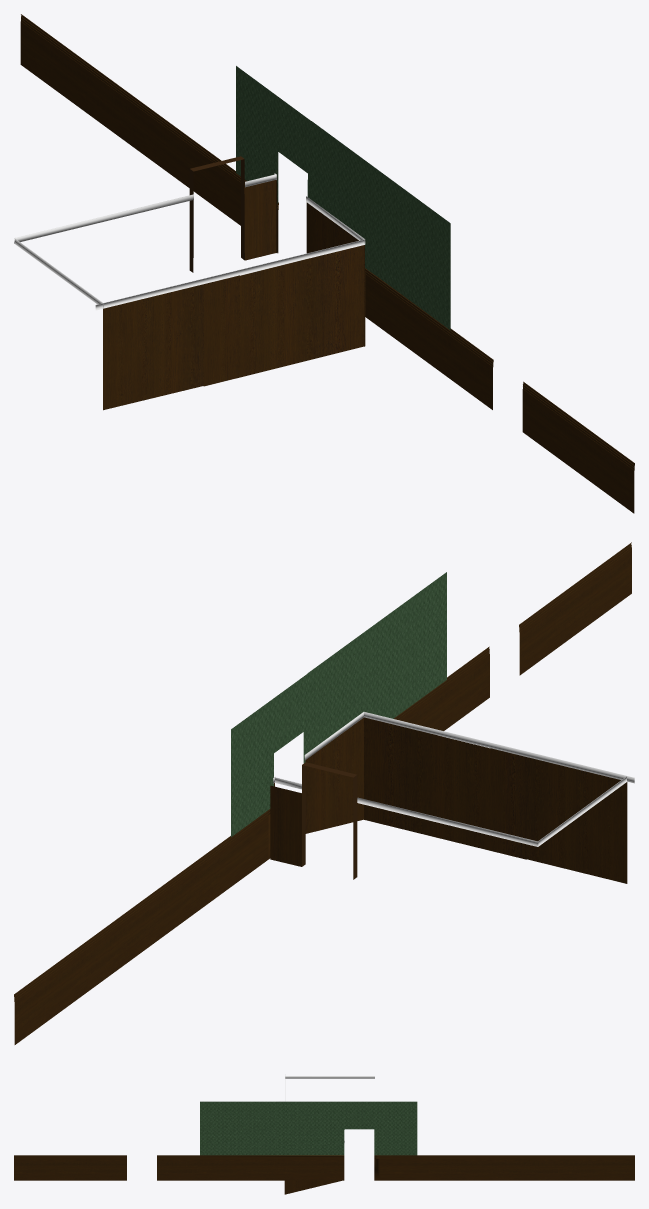
File: Detali.fbx
The picture shows the model from 3 angles, top to bottom: view 1: azimuth 30°, elevation 25°; view 2: azimuth 150°, elevation 25°; view 3: azimuth 270°, elevation 25°; orthographic projection. The views are drawn at different scales.
Visible parts, largest first — view 1: Plane.120, Cube.016, Plane.111, Plane.013, Plane.117, Plane.121, Plane.012; view 2: Plane.120, Cube.016, Plane.111, Plane.121, Plane.013, Plane.106, Plane.012; view 3: Cube.016, Plane.111, Plane.121, Plane.013.
Part boxes in pixels (left/top/right/bottom): Plane.120: left=103, top=245, right=365, bottom=410; Cube.016: left=20, top=14, right=634, bottom=513; Plane.111: left=236, top=66, right=450, bottom=330; Plane.013: left=14, top=173, right=365, bottom=310; Plane.117: left=244, top=180, right=276, bottom=260; Plane.121: left=276, top=180, right=364, bottom=346; Plane.012: left=189, top=156, right=244, bottom=272; Plane.120: left=364, top=717, right=627, bottom=883; Cube.016: left=14, top=542, right=631, bottom=1044; Plane.111: left=231, top=572, right=446, bottom=836; Plane.121: left=274, top=717, right=363, bottom=833; Plane.013: left=273, top=712, right=634, bottom=846; Plane.106: left=270, top=785, right=301, bottom=866; Plane.012: left=302, top=762, right=357, bottom=879; Cube.016: left=14, top=1155, right=634, bottom=1180; Plane.111: left=200, top=1101, right=417, bottom=1155; Plane.121: left=284, top=1180, right=341, bottom=1194; Plane.013: left=285, top=1074, right=374, bottom=1142.
Size of the model in its own units: 10.06 by 39.45 by 6.58.
6 materials, 4 textured.
